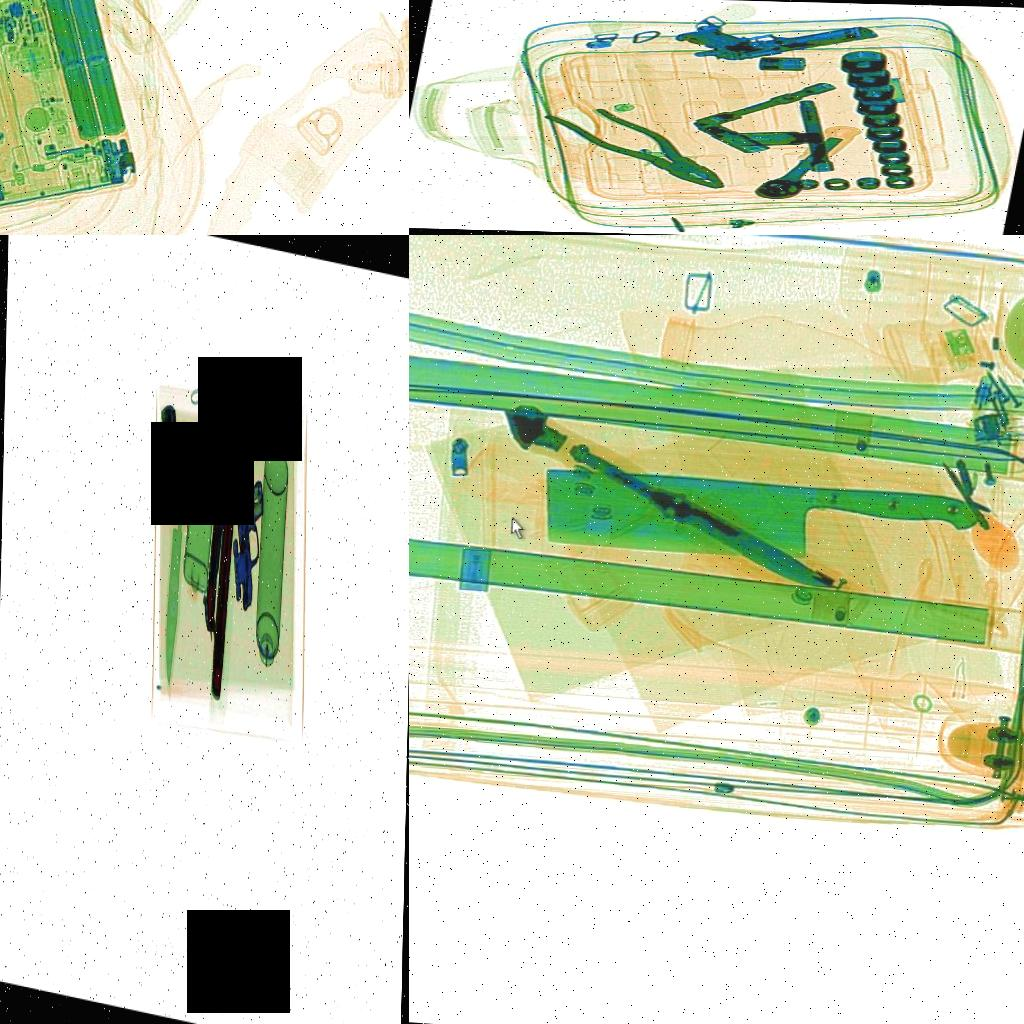Gun: (658, 2, 884, 68), (231, 471, 273, 617)
Knife: (540, 461, 980, 579), (554, 435, 846, 604), (161, 499, 185, 691), (202, 458, 227, 630), (156, 402, 180, 516)
Pliers: (523, 101, 760, 195)
